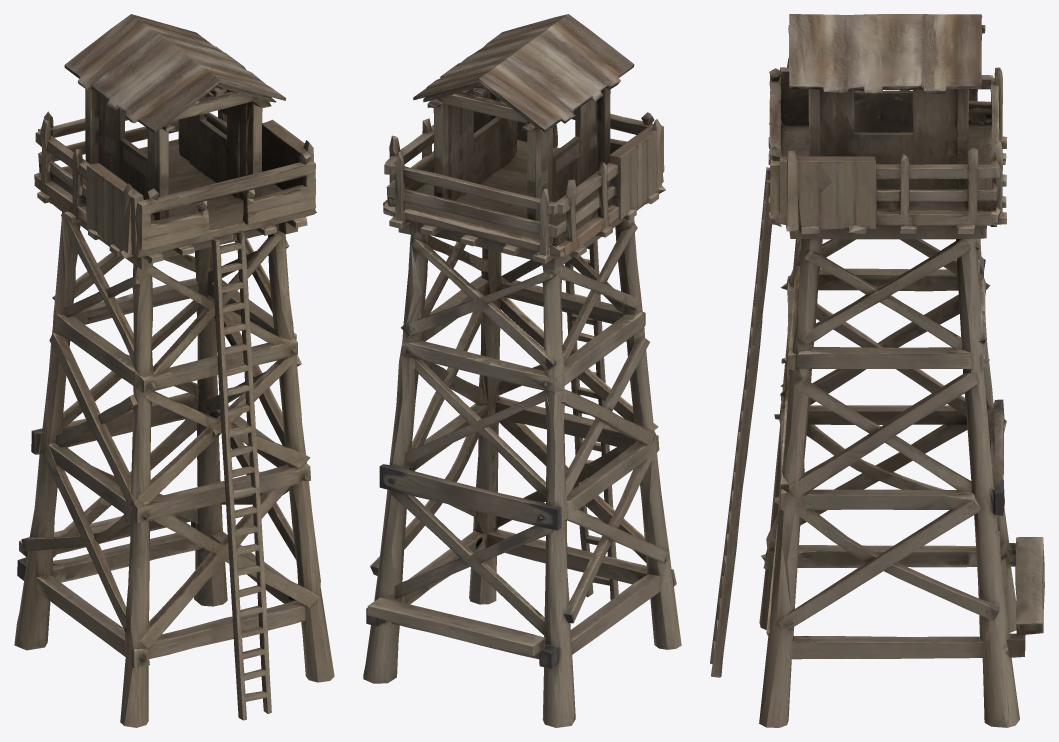
The model's file is tower-balanced.glb.
3 renders of one model, left to right at view 1: azimuth 30°, elevation 25°; view 2: azimuth 150°, elevation 25°; view 3: azimuth 270°, elevation 25°, orthographic. The views are drawn at different scales.
Visible parts, largest first — view 1: tower-v2-balanced; view 2: tower-v2-balanced; view 3: tower-v2-balanced.
Part boxes in pixels (left/top/right/bottom): tower-v2-balanced: left=14, top=14, right=334, bottom=727; tower-v2-balanced: left=363, top=14, right=681, bottom=727; tower-v2-balanced: left=710, top=14, right=1044, bottom=727.
Size of the model in its own units: 0.3558 by 1 by 0.4602.
1 material, 1 textured.
